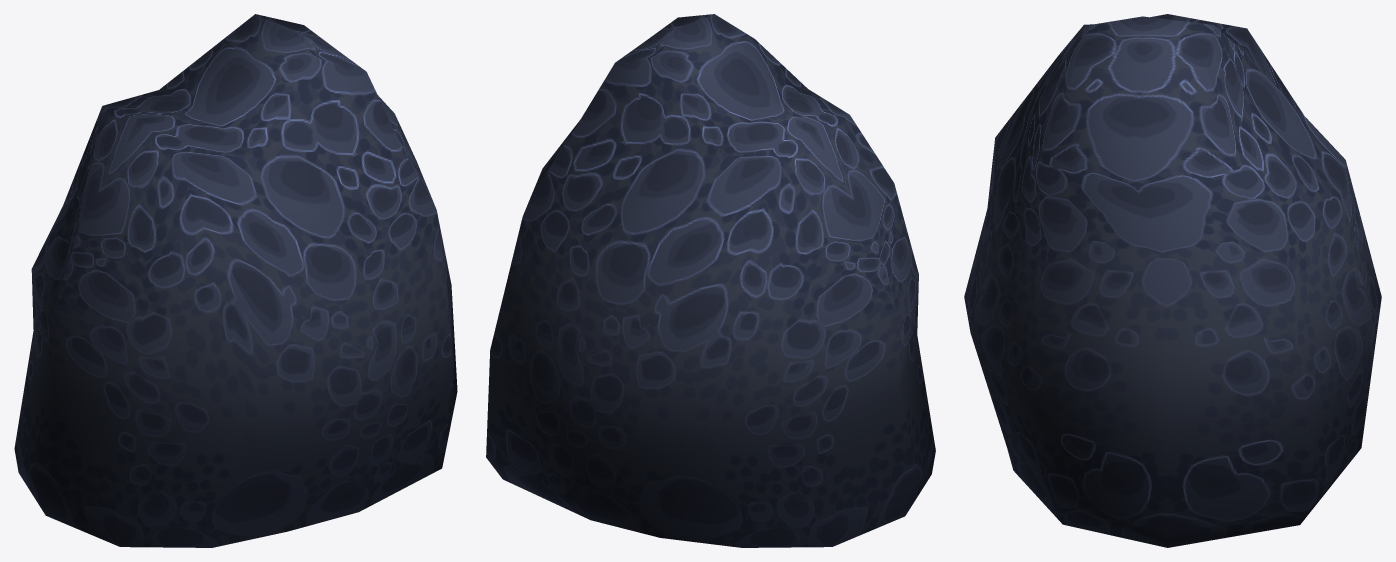
The model's file is Rock_02a.FBX.
3 views of the same model, side by side, from view 1: azimuth 30°, elevation 25°; view 2: azimuth 150°, elevation 25°; view 3: azimuth 270°, elevation 25° (orthographic). The views are drawn at different scales.
Visible parts, largest first — view 1: Rock_02a; view 2: Rock_02a; view 3: Rock_02a.
Part boxes in pixels (box(x1,y1,x2,y2)): Rock_02a: box(14, 14, 457, 547); Rock_02a: box(486, 14, 935, 547); Rock_02a: box(964, 14, 1381, 547).
Bounding box in the file's own units: 198 × 196 × 165.
